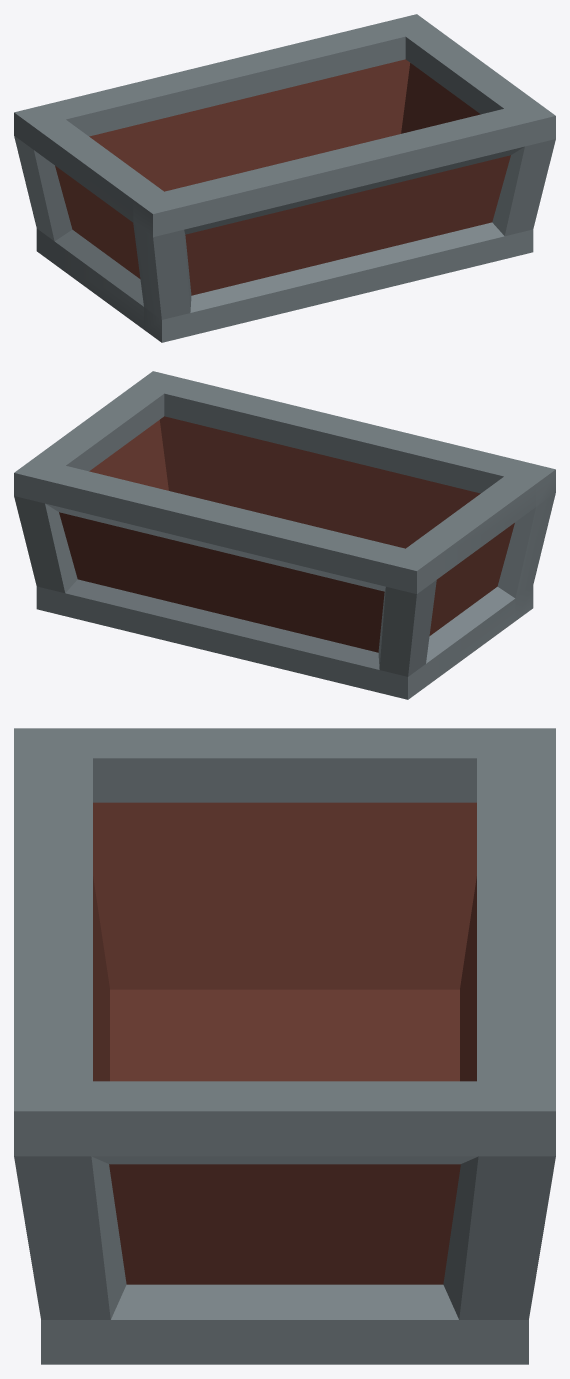
Rendered from chest_uncommon_empty.fbx.
3 renders of one model, top to bottom at view 1: azimuth 30°, elevation 25°; view 2: azimuth 150°, elevation 25°; view 3: azimuth 270°, elevation 25°, orthographic. The views are drawn at different scales.
Visible parts, largest first — view 1: chest_uncommon; view 2: chest_uncommon; view 3: chest_uncommon.
Part boxes in pixels (<box>): chest_uncommon: <box>14,14,555,342</box>; chest_uncommon: <box>14,371,555,699</box>; chest_uncommon: <box>14,728,555,1364</box>.
Size of the model in its own units: 184 by 60.07 by 110.
